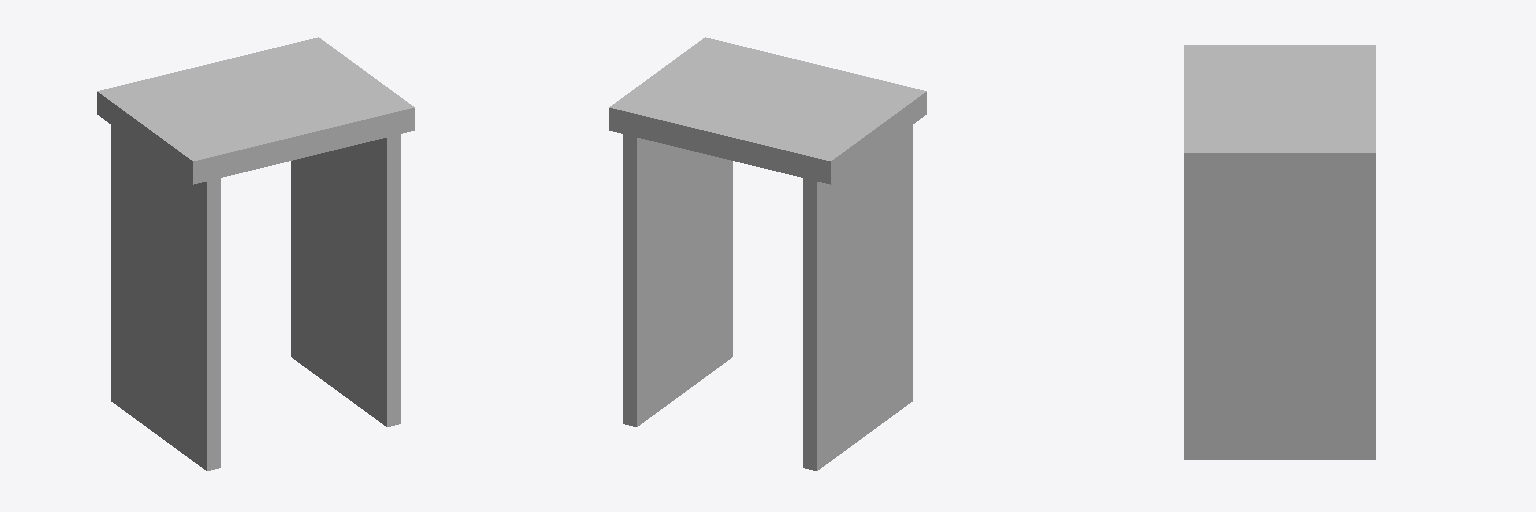
File: Table_Test_Mesh.obj
3 renders of one model, left to right at view 1: azimuth 30°, elevation 25°; view 2: azimuth 150°, elevation 25°; view 3: azimuth 270°, elevation 25°, orthographic.
Visible parts, largest first — view 1: Table_Test_Mesh; view 2: Table_Test_Mesh; view 3: Table_Test_Mesh.
Part boxes in pixels (left/top/right/bottom): Table_Test_Mesh: left=97, top=37, right=414, bottom=470; Table_Test_Mesh: left=609, top=37, right=926, bottom=470; Table_Test_Mesh: left=1184, top=45, right=1375, bottom=459.
Size of the model in its own units: 2 by 2.7 by 1.5.